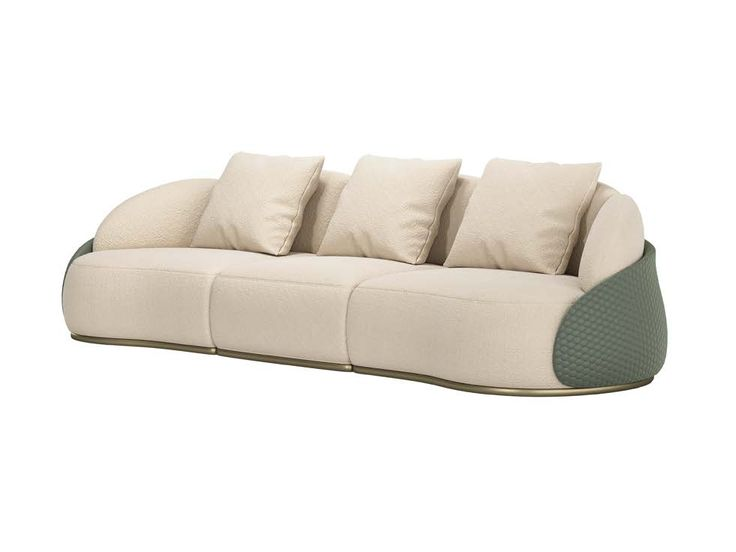3seatersofa: (63, 153, 666, 395)
backrest: (427, 175, 478, 264), (292, 171, 348, 252), (567, 184, 617, 274)
leftarmrest: (554, 194, 666, 387)
leg: (71, 333, 653, 395)
pillow: (445, 159, 599, 273), (318, 157, 459, 264), (191, 152, 323, 254)
rightarmrest: (64, 180, 215, 284)
seat: (63, 248, 579, 389)
